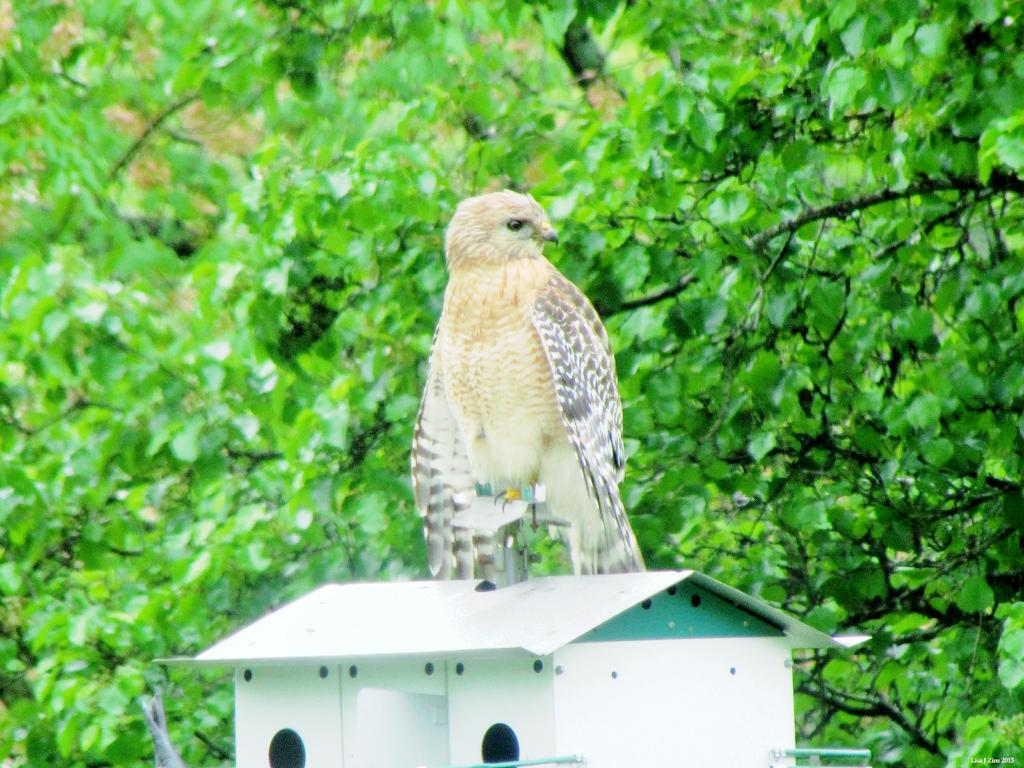Owl: (406, 192, 650, 580)
